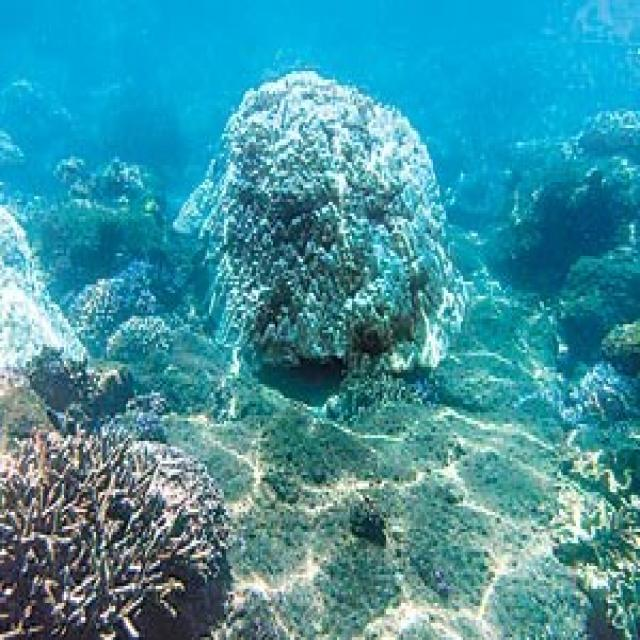Bleached: (208, 72, 451, 362), (1, 206, 74, 368)
Healthy: (1, 428, 229, 638)
